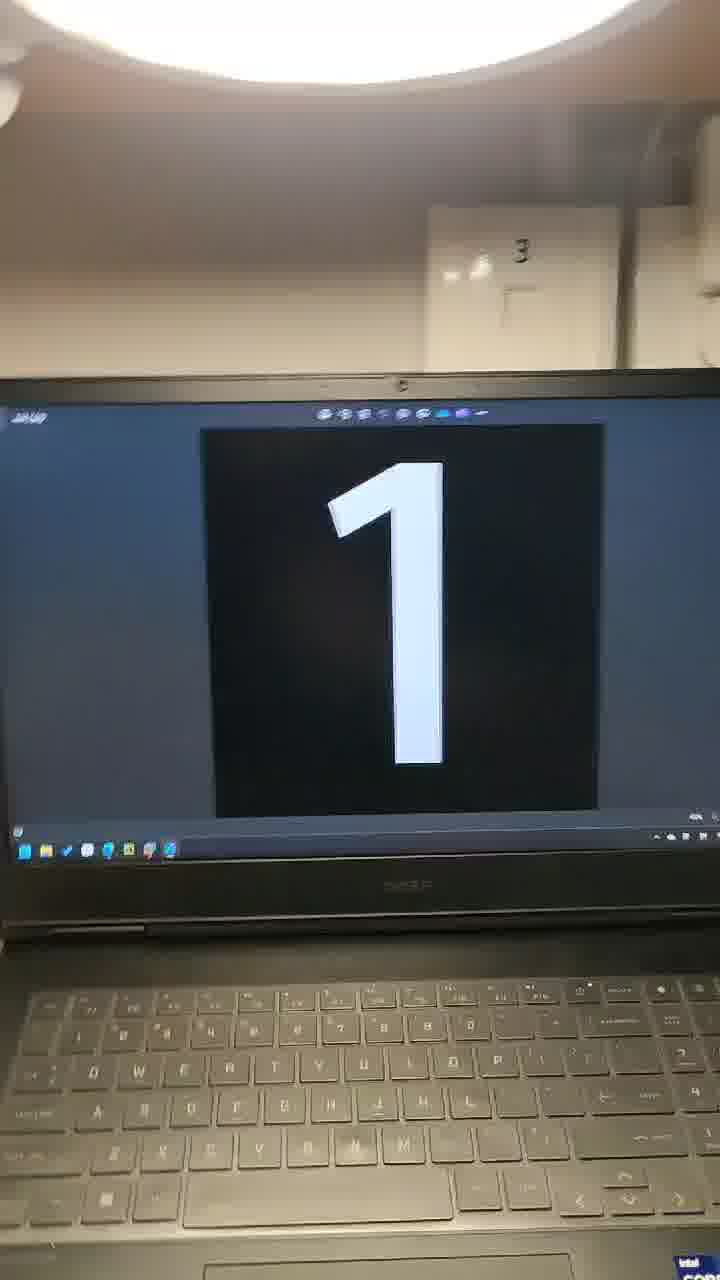one: (307, 431, 599, 839)
